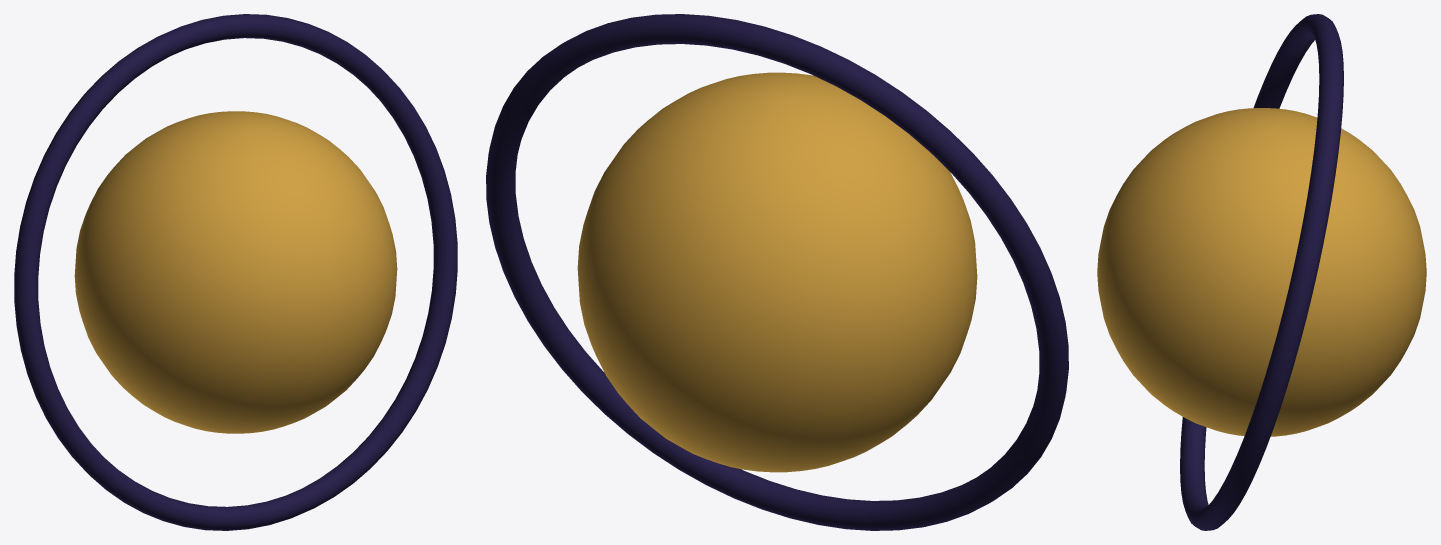
Rendered from orb.glb.
The picture shows the model from 3 angles, left to right: view 1: azimuth 30°, elevation 25°; view 2: azimuth 150°, elevation 25°; view 3: azimuth 270°, elevation 25°; orthographic projection. The views are drawn at different scales.
Visible parts, largest first — view 1: orb; view 2: orb; view 3: orb.
Boxes of the visible parts, <box> form: orb: <box>14,14,457,530</box>; orb: <box>486,14,1068,530</box>; orb: <box>1097,14,1426,530</box>.
Size of the model in its own units: 1.93 by 1.86 by 1.2.
